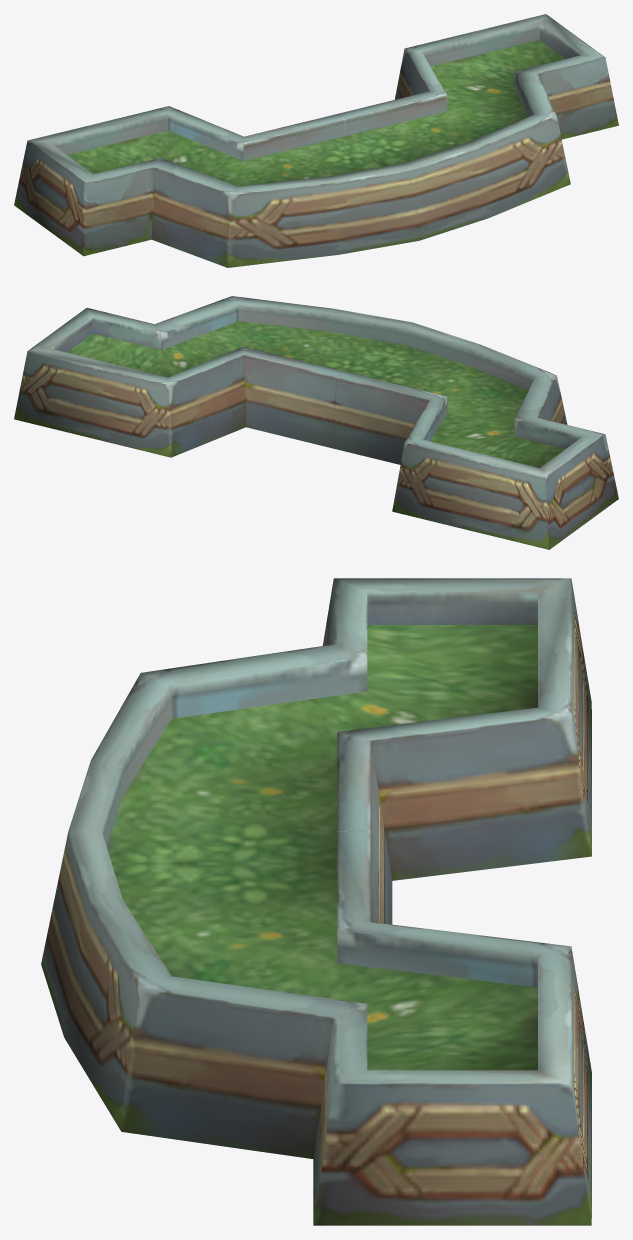
File: Map_06_parterre01.FBX
The picture shows the model from 3 angles, top to bottom: view 1: azimuth 30°, elevation 25°; view 2: azimuth 150°, elevation 25°; view 3: azimuth 270°, elevation 25°; orthographic projection. The views are drawn at different scales.
Parts seen in each view (by area): view 1: Map_06_parterre01; view 2: Map_06_parterre01; view 3: Map_06_parterre01.
Boxes of the visible parts, x1,y1,x2,y2 form: Map_06_parterre01: (14,14,618,267); Map_06_parterre01: (14,296,618,549); Map_06_parterre01: (41,578,591,1225).
Size of the model in its own units: 1117 by 498 by 133.
